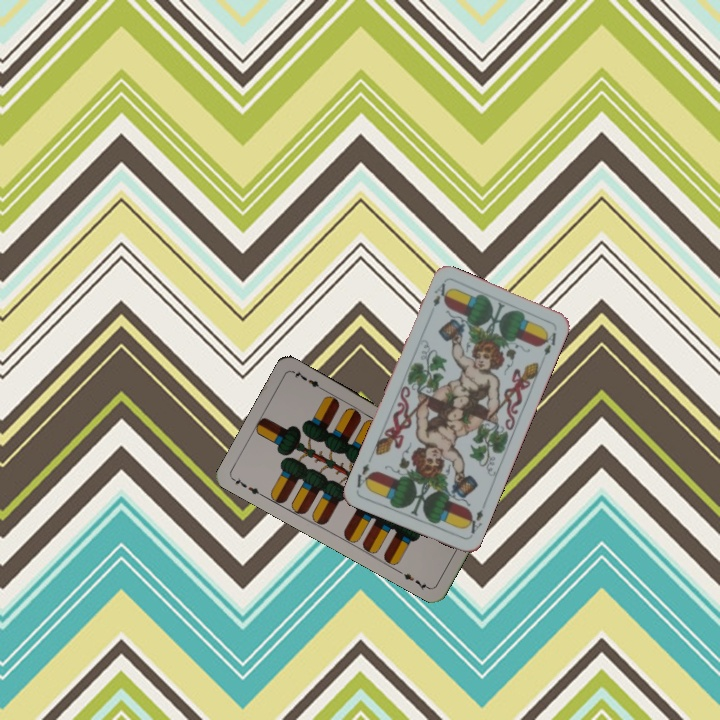E7: (229, 474, 266, 499)
EA: (462, 504, 487, 538), (429, 279, 450, 309)
